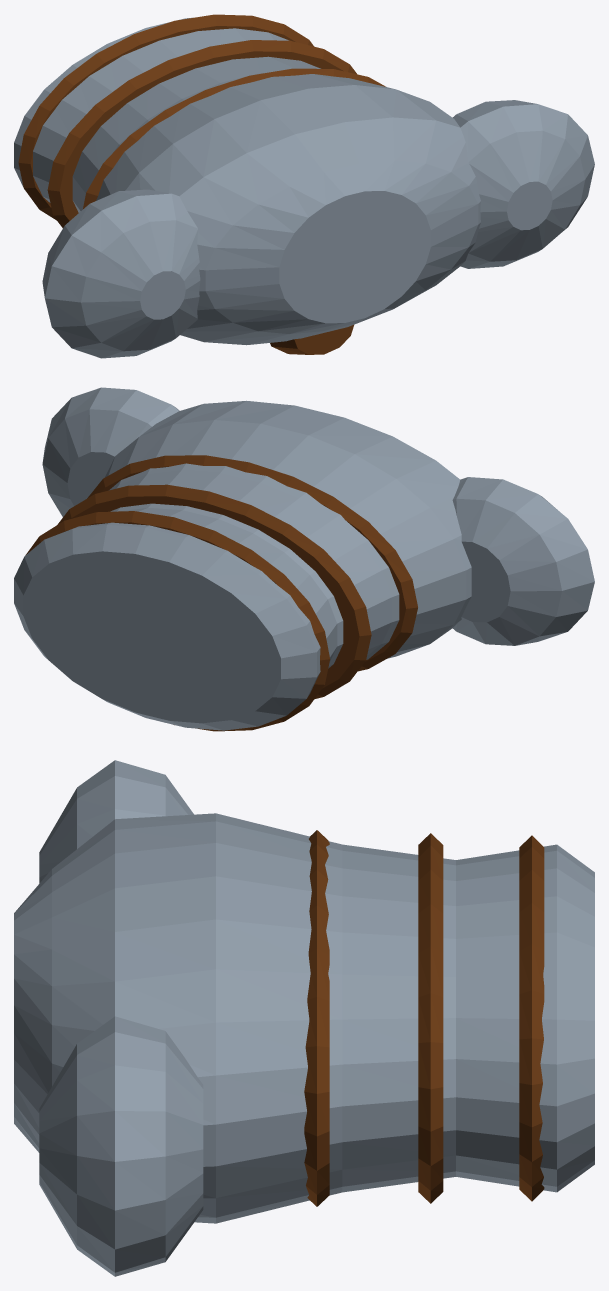
The model's file is SM_MF_FirstlightCuirass.obj.
3 renders of one model, top to bottom at view 1: azimuth 30°, elevation 25°; view 2: azimuth 150°, elevation 25°; view 3: azimuth 270°, elevation 25°, orthographic. The views are drawn at different scales.
Visible parts, largest first — view 1: SM_MF_FirstlightCuirass; view 2: SM_MF_FirstlightCuirass; view 3: SM_MF_FirstlightCuirass.
Part boxes in pixels (box(x1,y1,x2,y2)): SM_MF_FirstlightCuirass: box(14, 14, 594, 358); SM_MF_FirstlightCuirass: box(14, 387, 594, 731); SM_MF_FirstlightCuirass: box(14, 760, 594, 1276).
Size of the model in its own units: 72 by 29.88 by 46.
